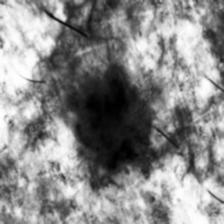Potentially Malignant Skin Tumors: (68, 73, 160, 181)
